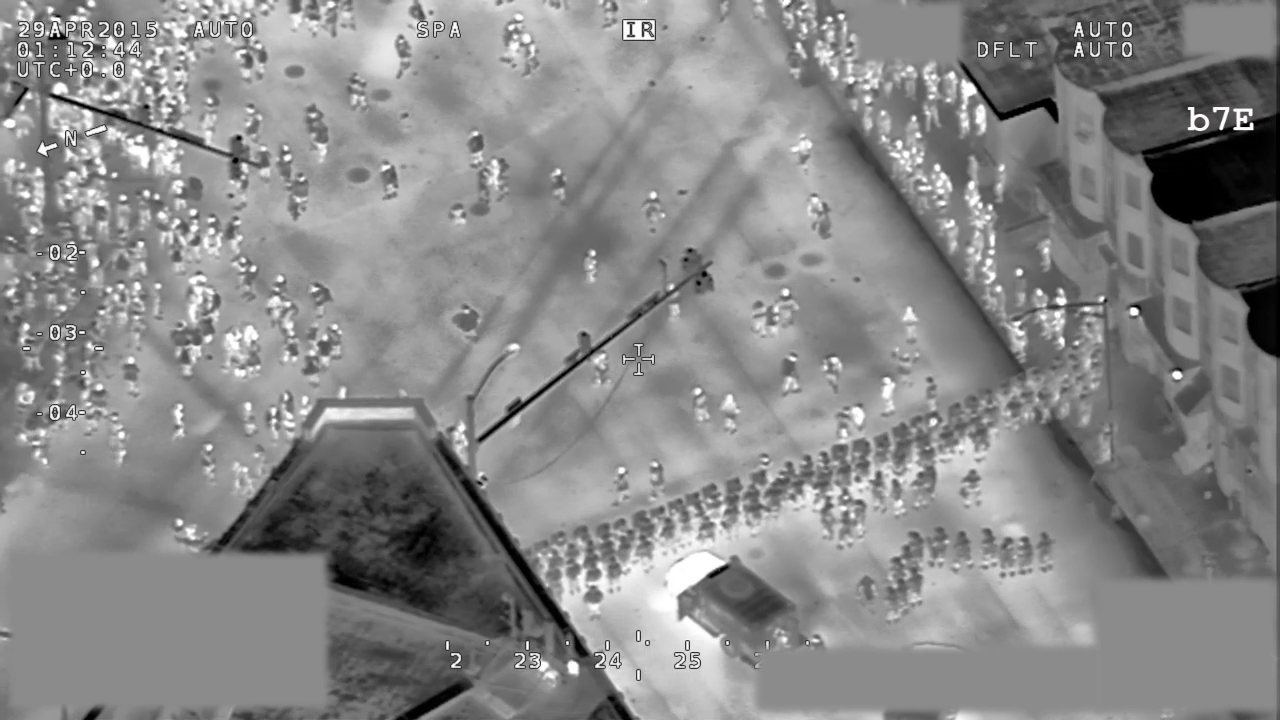vehicle: (657, 546, 805, 669)
